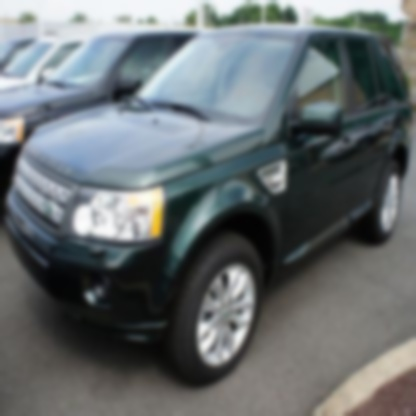Vehicle: (6, 26, 415, 388)
